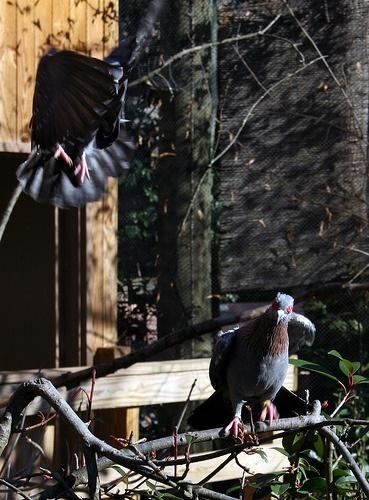bird: (17, 50, 140, 211), (209, 289, 295, 446)
